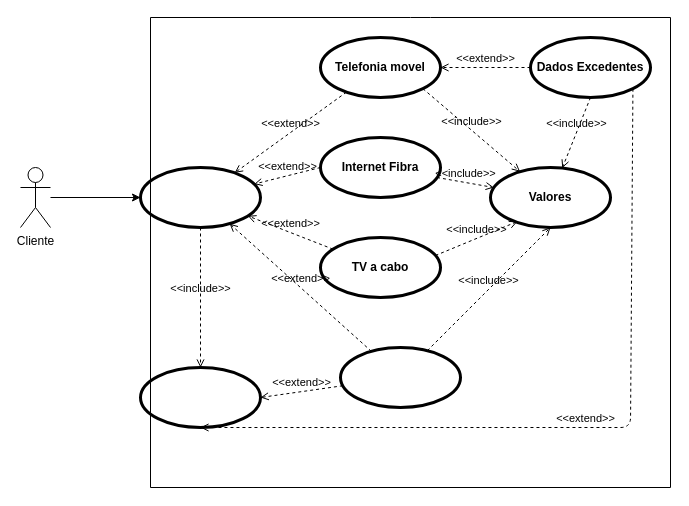
This 689x506 diagram has some shape labels left out. Each missing label, with the centre of its shape:
"Fatura" goes at point (200, 397).
"Pacote" goes at point (200, 197).
"Streaming" goes at point (400, 377).
